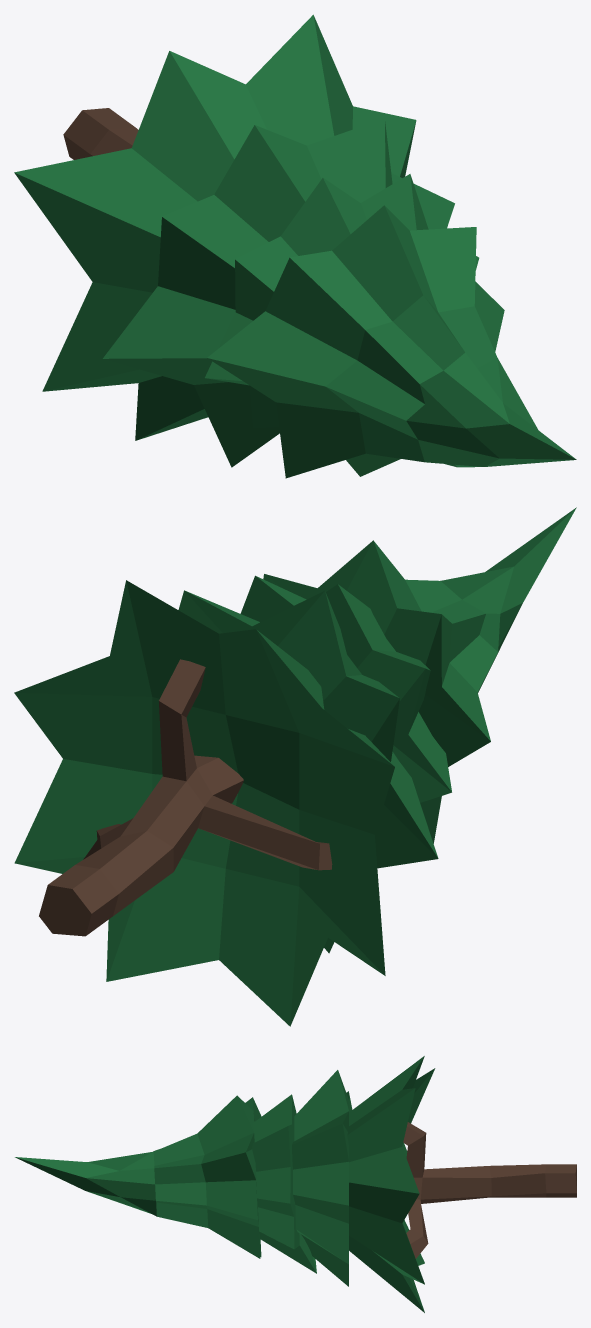
Rendered from pine_tree0.glb.
The picture shows the model from 3 angles, top to bottom: view 1: azimuth 30°, elevation 25°; view 2: azimuth 150°, elevation 25°; view 3: azimuth 270°, elevation 25°; orthographic projection. The views are drawn at different scales.
Visible parts, largest first — view 1: Tree.001, Tree; view 2: Tree.001, Tree; view 3: Tree.001, Tree.
Boxes of the visible parts, bbox=[...] form: Tree.001: bbox=[14, 14, 576, 478]; Tree: bbox=[63, 108, 138, 159]; Tree.001: bbox=[14, 507, 576, 1026]; Tree: bbox=[39, 659, 332, 936]; Tree.001: bbox=[15, 1056, 435, 1312]; Tree: bbox=[403, 1122, 576, 1258].
Size of the model in its own units: 16.69 by 16.07 by 36.85.
